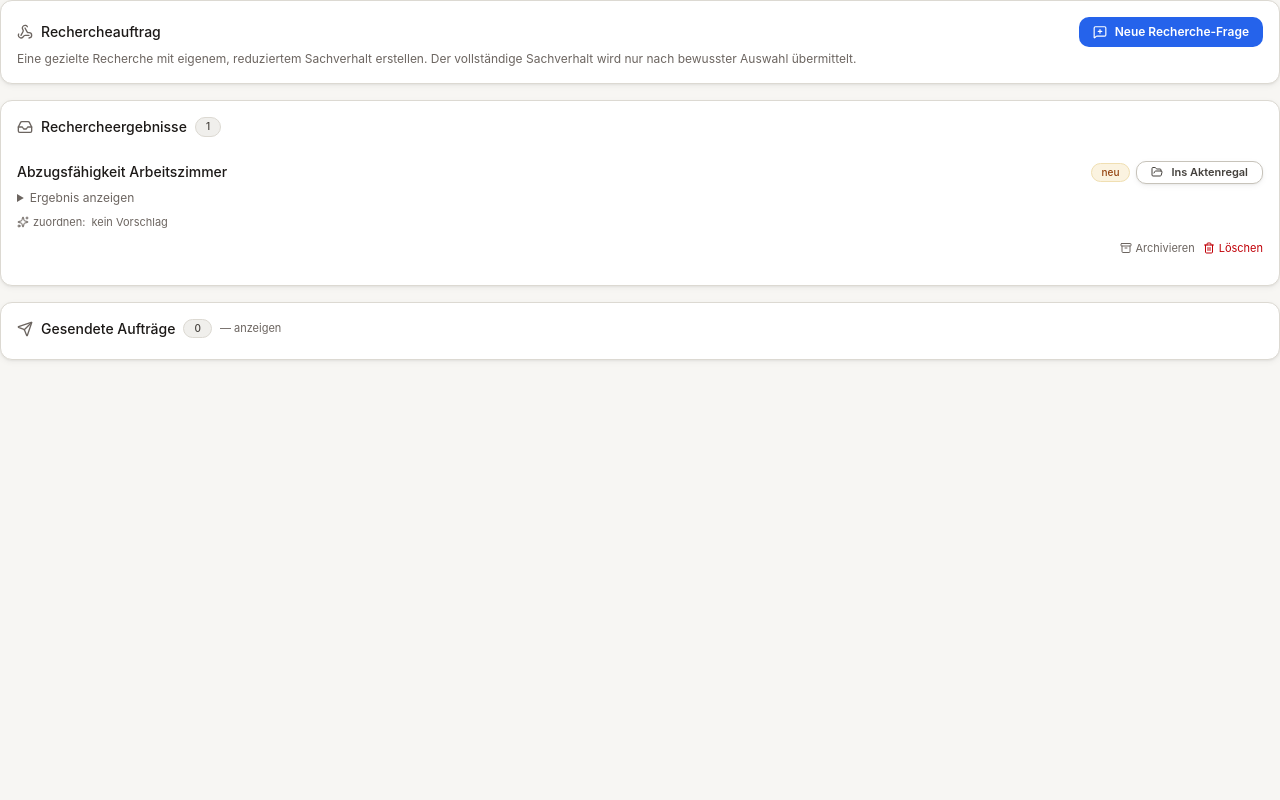
Scenario: Recherche archivieren und löschen › löscht erst nach Bestätigung im Gefahrendialog
Click the button "Löschen" at (1233, 248), box [1203,240,1263,256]
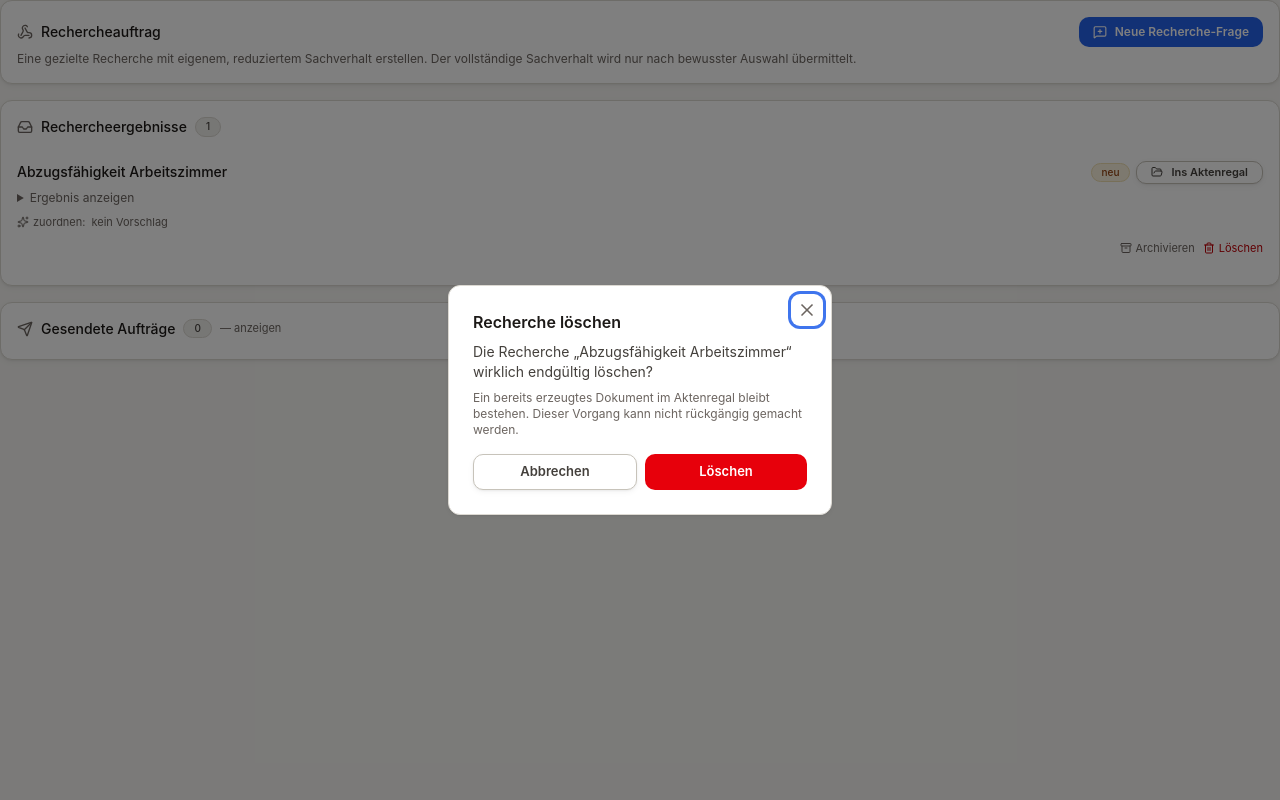
Check: the dialog "Recherche löschen" shows "„Abzugsfähigkeit Arbeitszimmer“ wirklich", box [448,285,832,515]
Check: the dialog "Recherche löschen" shows "Ein bereits erzeugtes Dokument im Aktenregal bleibt bestehen", box [473,390,802,437]
Check: the dialog "Recherche löschen" shows "nicht rückgängig gemacht werden", box [473,390,802,437]
Click the button "Löschen" at (726, 472), box [645,454,807,490]
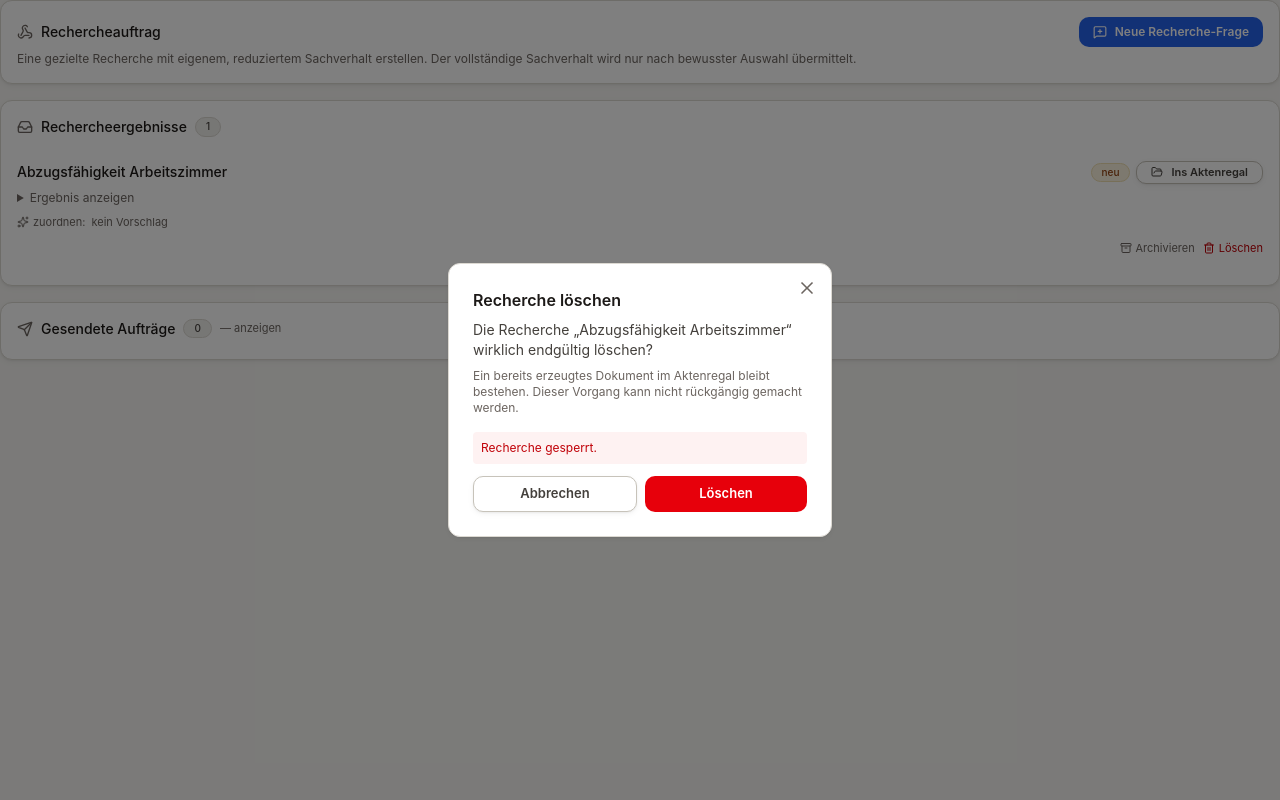
Check: the message reads "Recherche gesperrt.", box [481,440,597,455]
Click the button "Löschen" at (726, 494), box [645,476,807,512]
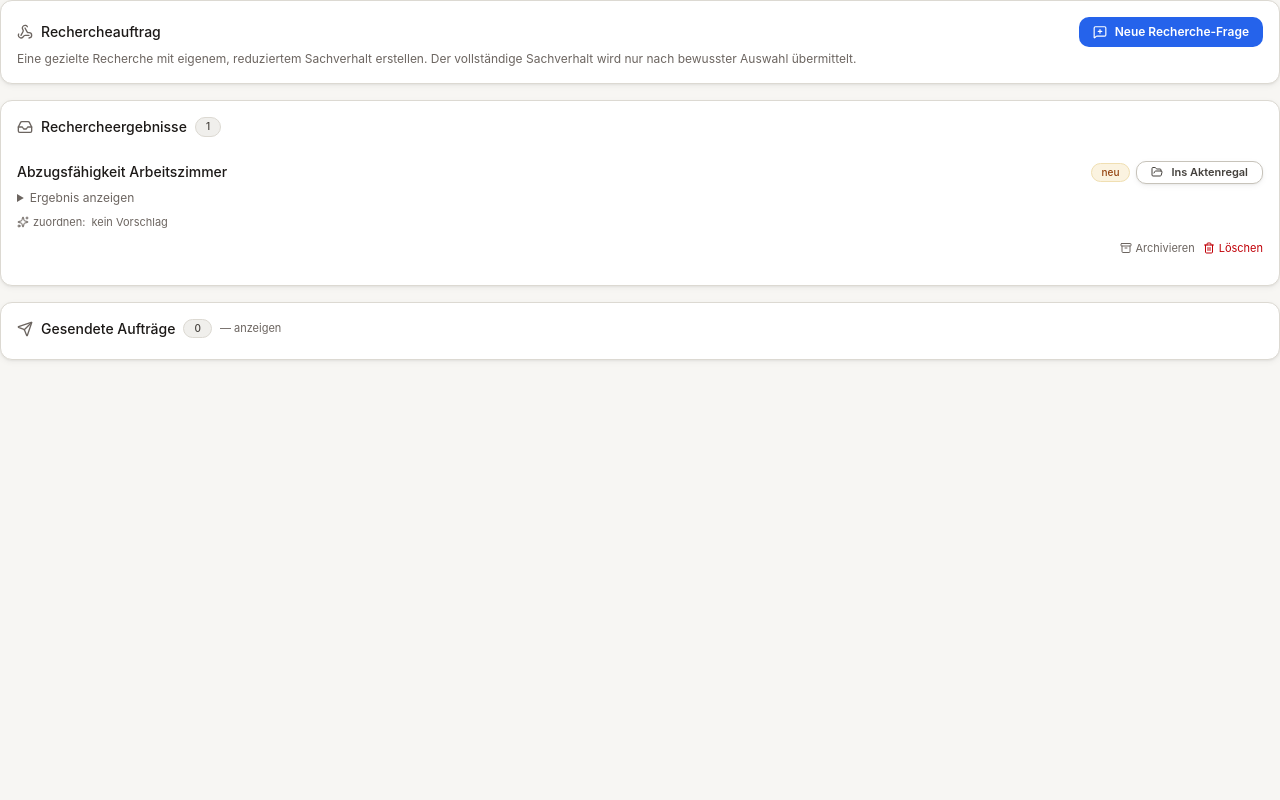
Check: the dialog is gone
